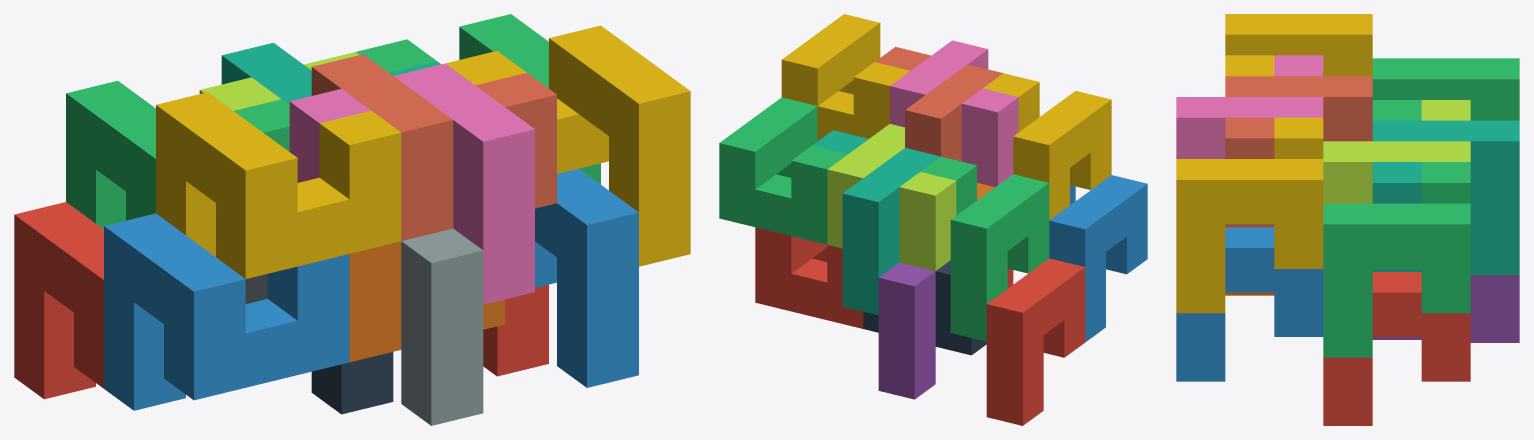
The model's file is tiling.obj.
3 views of the same model, side by side, from view 1: azimuth 30°, elevation 25°; view 2: azimuth 150°, elevation 25°; view 3: azimuth 270°, elevation 25° (orthographic). The views are drawn at different scales.
Visible parts, largest first — view 1: copy_1_domain_2, copy_1_domain_4, copy_2_domain_8, copy_2_domain_4, copy_2_domain_6, copy_1_domain_1, copy_2_domain_2, copy_1_domain_8, copy_1_domain_3, copy_1_domain_6, copy_2_domain_7, copy_2_domain_5 (+3 smaller); view 2: copy_2_domain_7, copy_1_domain_3, copy_1_domain_1, copy_2_domain_8, copy_1_domain_4, copy_1_domain_2, copy_1_domain_7, copy_2_domain_3, copy_2_domain_4, copy_1_domain_5, copy_2_domain_5, copy_1_domain_8 (+1 smaller); view 3: copy_2_domain_7, copy_2_domain_8, copy_1_domain_7, copy_2_domain_5, copy_2_domain_6, copy_1_domain_3, copy_1_domain_4, copy_1_domain_8, copy_2_domain_3, copy_2_domain_4, copy_1_domain_5.
Boxes of the visible parts, x1=… form: copy_1_domain_2: x1=104, y1=213, x2=349, y2=410; copy_1_domain_4: x1=156, y1=92, x2=401, y2=278; copy_2_domain_8: x1=445, y1=25, x2=690, y2=266; copy_2_domain_4: x1=289, y1=63, x2=534, y2=304; copy_2_domain_6: x1=535, y1=168, x2=638, y2=387; copy_1_domain_1: x1=14, y1=202, x2=103, y2=399; copy_2_domain_2: x1=245, y1=228, x2=483, y2=425; copy_1_domain_8: x1=311, y1=54, x2=556, y2=240; copy_1_domain_3: x1=66, y1=80, x2=289, y2=229; copy_1_domain_6: x1=349, y1=241, x2=505, y2=362; copy_2_domain_7: x1=356, y1=14, x2=600, y2=184; copy_2_domain_5: x1=483, y1=284, x2=548, y2=376; copy_2_domain_7: x1=719, y1=97, x2=847, y2=244; copy_1_domain_3: x1=920, y1=156, x2=1049, y2=341; copy_1_domain_1: x1=986, y1=258, x2=1085, y2=425; copy_2_domain_8: x1=781, y1=14, x2=910, y2=140; copy_1_domain_4: x1=983, y1=73, x2=1111, y2=220; copy_1_domain_2: x1=1049, y1=175, x2=1147, y2=342; copy_1_domain_7: x1=812, y1=130, x2=940, y2=315; copy_2_domain_3: x1=827, y1=124, x2=956, y2=271; copy_2_domain_4: x1=890, y1=40, x2=1018, y2=186; copy_1_domain_5: x1=878, y1=262, x2=935, y2=399; copy_2_domain_5: x1=755, y1=227, x2=863, y2=328; copy_1_domain_8: x1=875, y1=47, x2=1002, y2=161; copy_2_domain_7: x1=1323, y1=162, x2=1470, y2=357; copy_2_domain_8: x1=1176, y1=117, x2=1323, y2=313; copy_1_domain_7: x1=1372, y1=120, x2=1519, y2=274; copy_2_domain_5: x1=1323, y1=272, x2=1470, y2=425; copy_2_domain_6: x1=1176, y1=227, x2=1323, y2=381; copy_1_domain_3: x1=1372, y1=58, x2=1519, y2=120; copy_1_domain_4: x1=1225, y1=14, x2=1372, y2=76; copy_1_domain_8: x1=1225, y1=76, x2=1372, y2=227; copy_2_domain_3: x1=1323, y1=100, x2=1470, y2=203; copy_2_domain_4: x1=1176, y1=55, x2=1323, y2=158; copy_1_domain_5: x1=1372, y1=275, x2=1519, y2=342.
Bounding box in the file's own units: 9 × 6 × 7.
